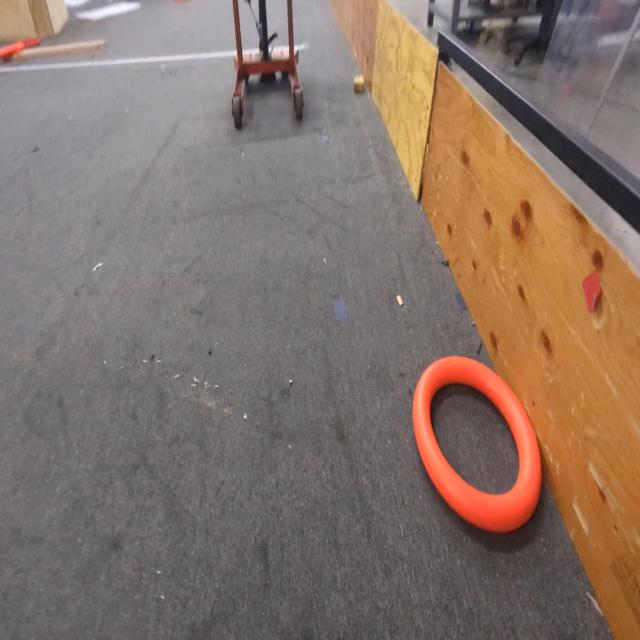note: (412, 358, 538, 533), (0, 39, 26, 62)
